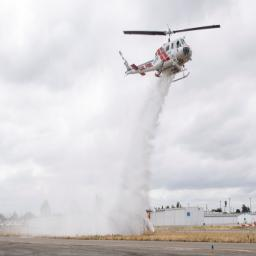helicopter: (94, 19, 199, 89)
